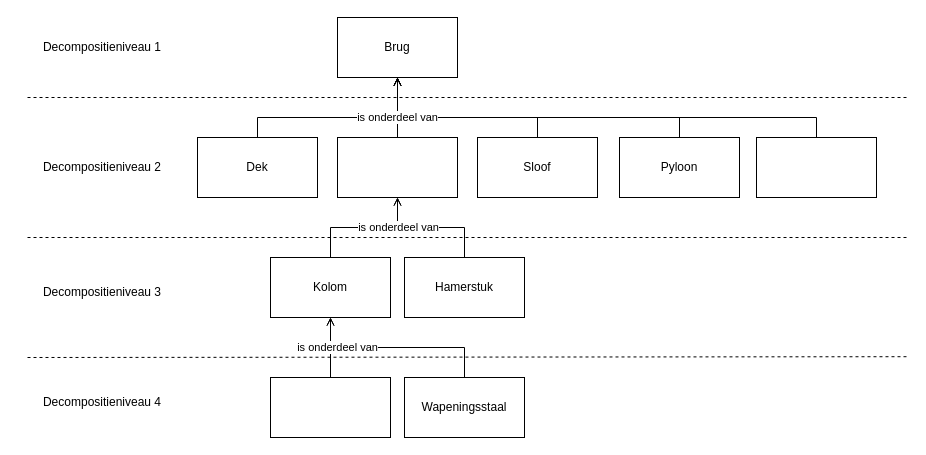
The diagram is 926 pixels wide and 455 high, and some of its shapes have lost their labels. Here are the shapes that lost their labels. From the top down, the centre of each, then its label:
At pixel 397 167: "Pijler".
At pixel 816 167: "Landhoofd".
At pixel 330 407: "Beton".
